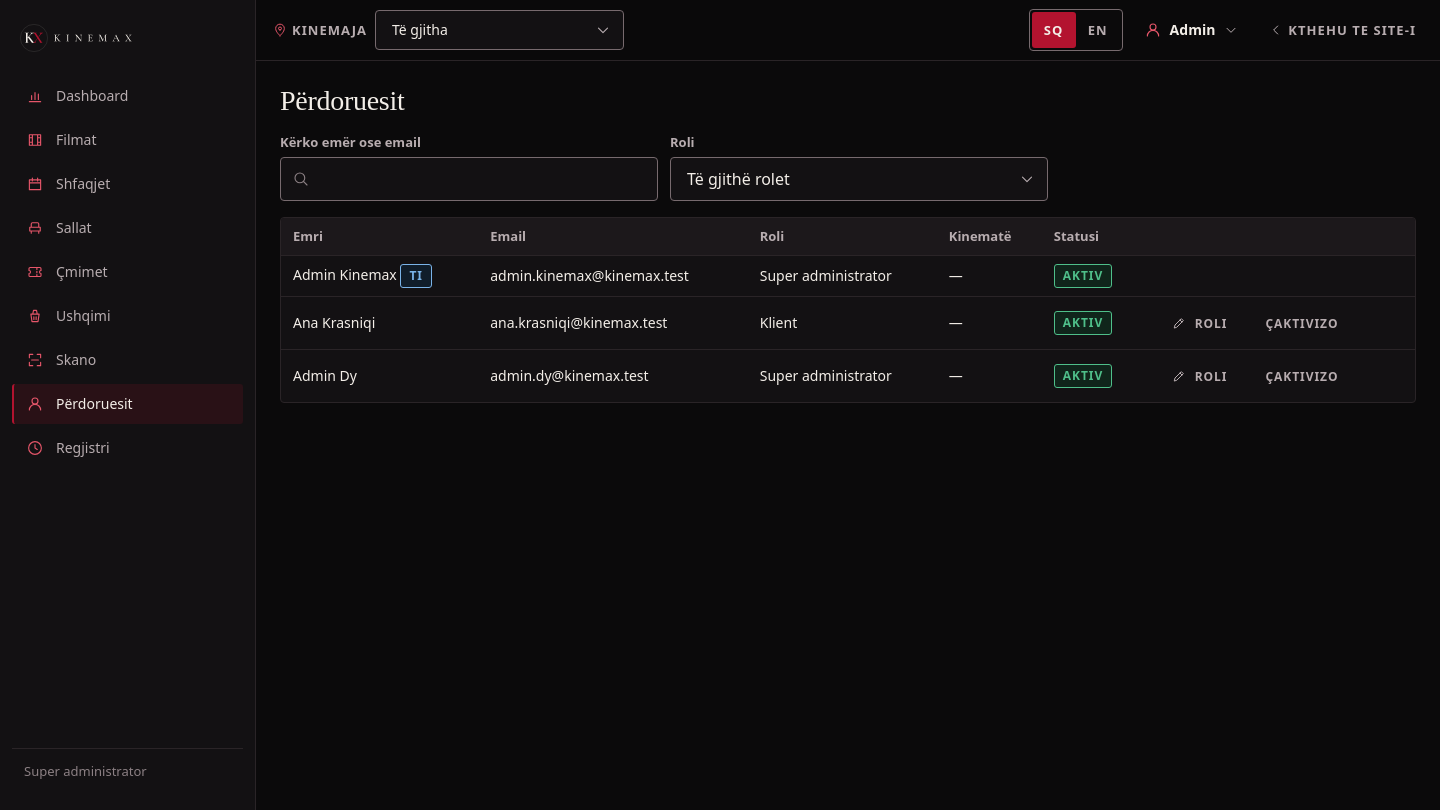
the users page › explains when the last super admin cannot be demoted
Click the button with aria-label "Ndrysho: Admin Dy" at {"x": 1199, "y": 376}, box x1=1154 y1=358 x2=1244 y2=394
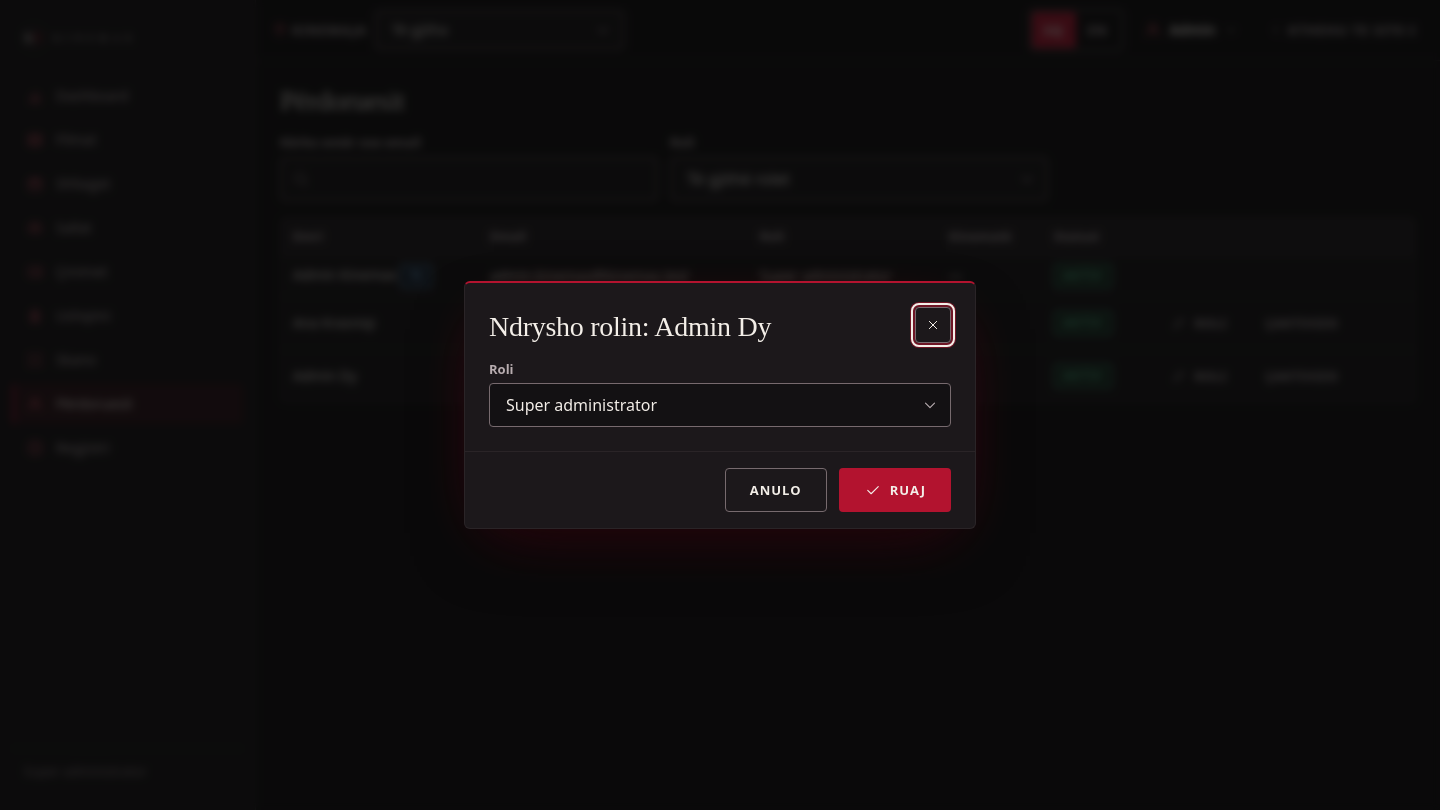
Select "Klient" in the dropdown labelled "Roli" at {"x": 720, "y": 405}, box x1=489 y1=383 x2=951 y2=427
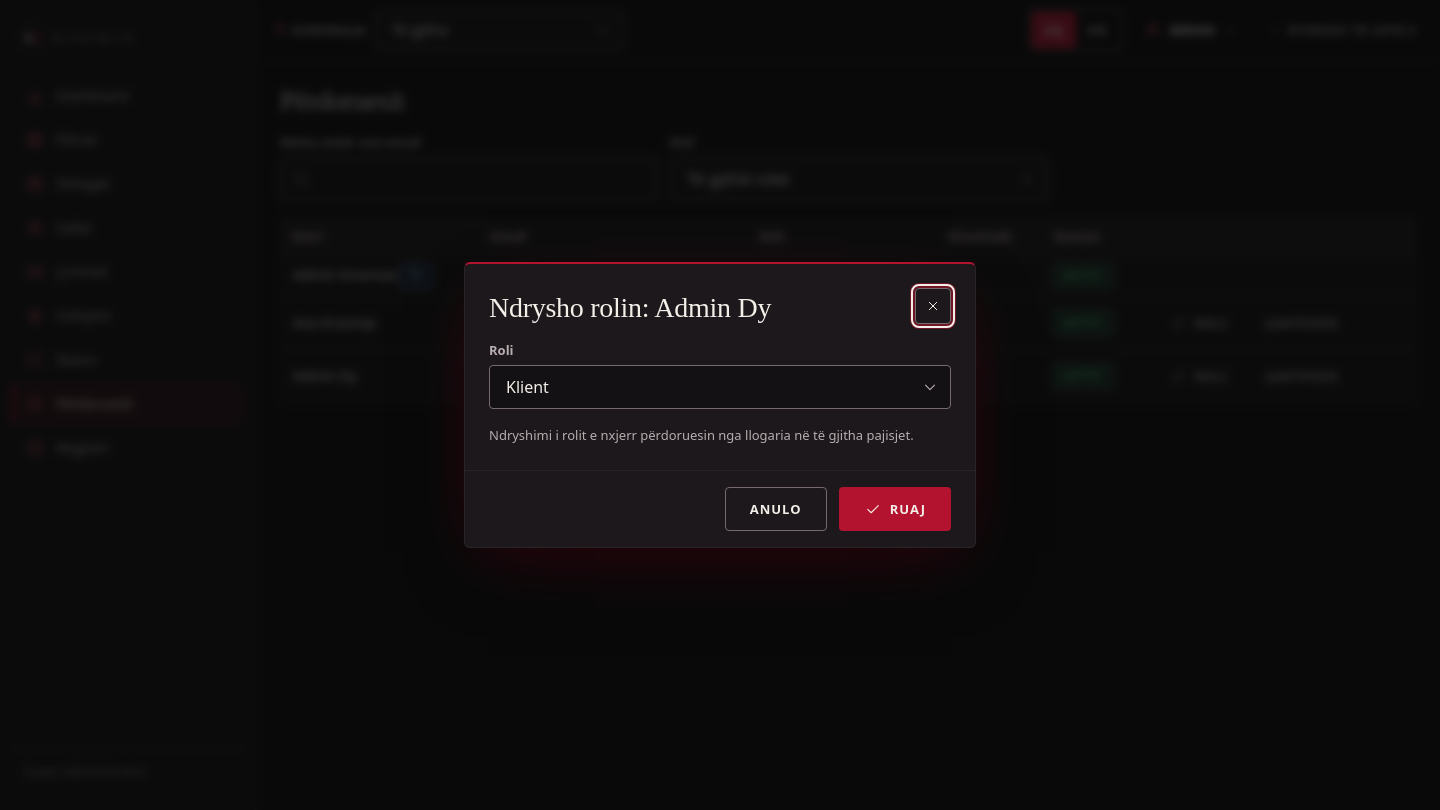
Click the button "Ruaj" at {"x": 895, "y": 509}, box x1=839 y1=487 x2=951 y2=531
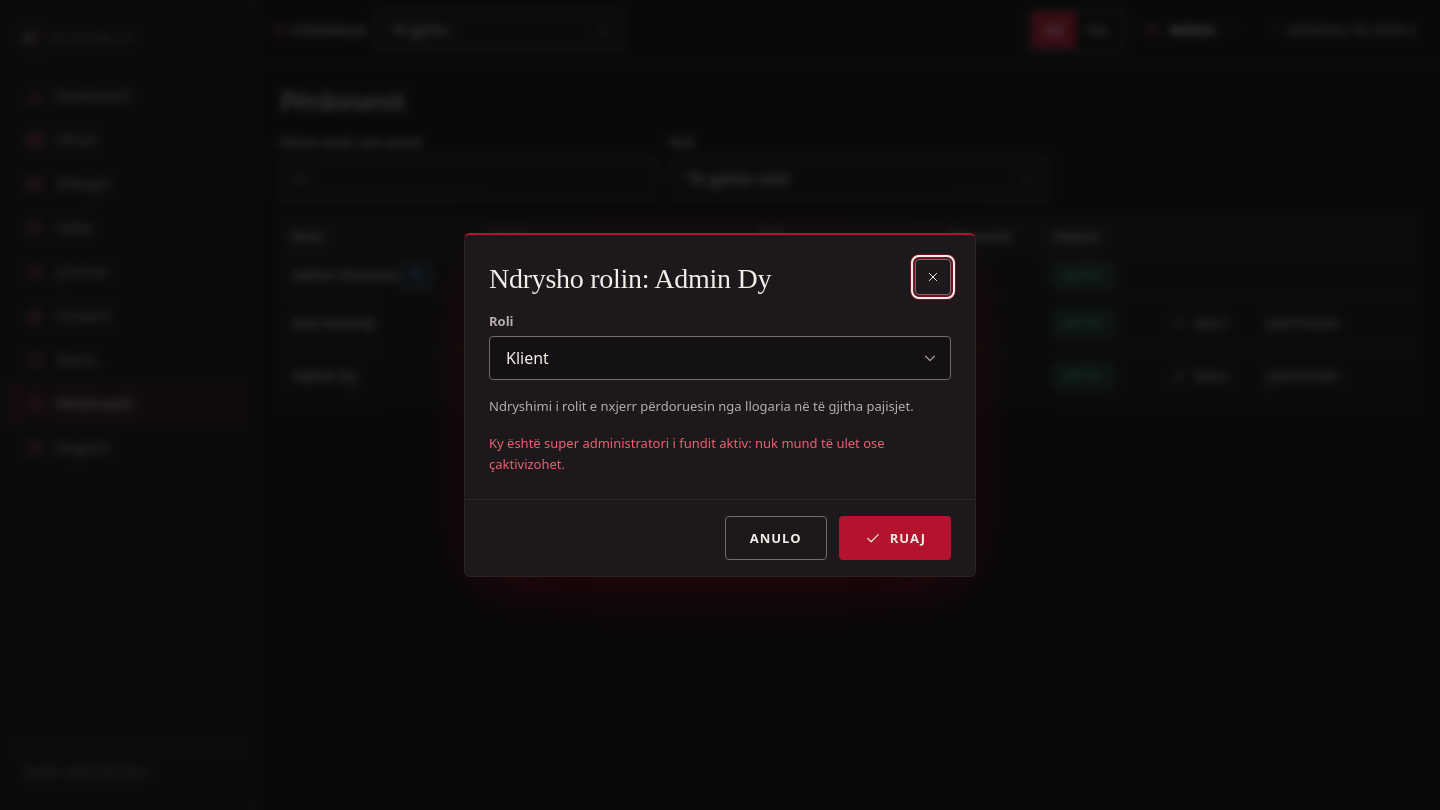
Check: the message shows "super administratori i fundit aktiv", box x1=489 y1=434 x2=885 y2=473
